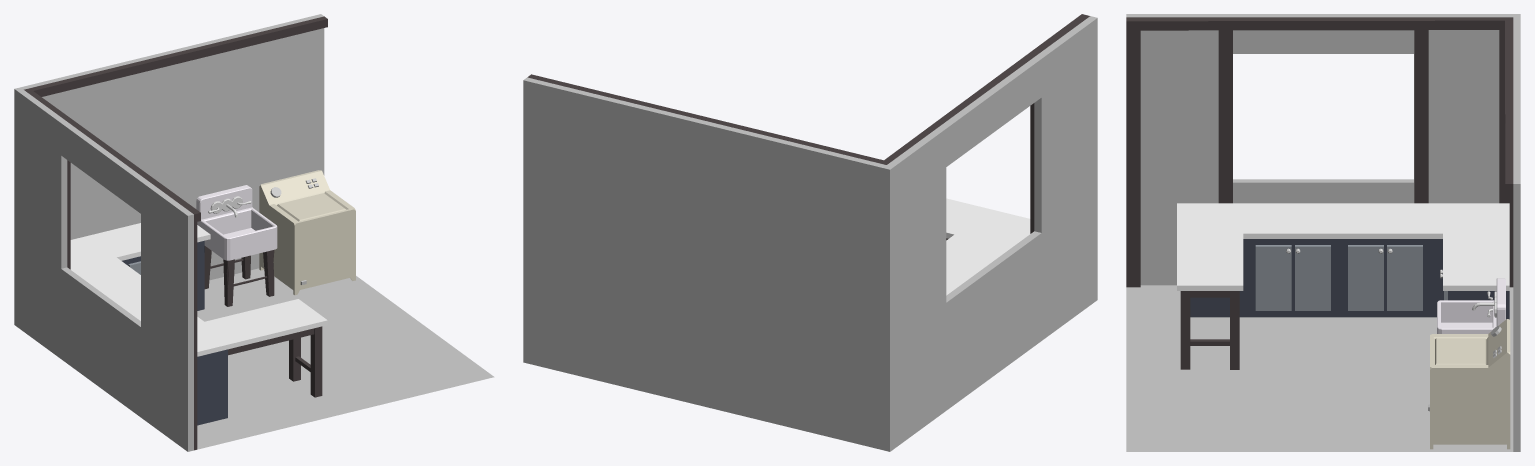
Rendered from room_1.glb.
The picture shows the model from 3 angles, left to right: view 1: azimuth 30°, elevation 25°; view 2: azimuth 150°, elevation 25°; view 3: azimuth 270°, elevation 25°; orthographic projection. The views are drawn at different scales.
Parts seen in each view (by area): view 1: Room, WashingMachineBody, DeskTop, CrownMould, SinkBody, Cabinets3, SinkLegs, Casing1, DeskLegOuter, MouldingOuter, DeskLegInner; view 2: Room, DeskTop, CrownMould, Casing2; view 3: Room, DeskTop, WashingMachineBody, Cabinets3, CrownMould, DeskBody.003, Cabinets2, Casing1, Casing3, Casing2, SinkBody, Casing4 (+2 smaller).
Part boxes in pixels (x1,y1,x2,y2): Room: [14, 14, 494, 451]; WashingMachineBody: [259, 170, 355, 295]; DeskTop: [70, 223, 327, 356]; CrownMould: [24, 16, 327, 222]; SinkBody: [196, 185, 277, 260]; Cabinets3: [122, 240, 227, 425]; SinkLegs: [204, 246, 274, 306]; Casing1: [194, 222, 197, 450]; DeskLegOuter: [310, 326, 322, 397]; MouldingOuter: [228, 328, 314, 355]; DeskLegInner: [289, 337, 300, 381]; Room: [523, 16, 1097, 451]; DeskTop: [946, 198, 1030, 295]; CrownMould: [527, 14, 1089, 164]; Casing2: [1030, 103, 1034, 233]; Room: [1126, 14, 1520, 451]; DeskTop: [1177, 203, 1509, 290]; WashingMachineBody: [1430, 319, 1510, 449]; Cabinets3: [1190, 239, 1509, 319]; CrownMould: [1126, 17, 1513, 193]; DeskBody.003: [1255, 245, 1330, 310]; Cabinets2: [1348, 245, 1422, 310]; Casing1: [1126, 30, 1140, 287]; Casing3: [1414, 30, 1428, 203]; Casing2: [1218, 30, 1232, 203]; SinkBody: [1437, 278, 1505, 333]; Casing4: [1499, 30, 1513, 287].
Size of the model in its own units: 4.08 by 3 by 4.
